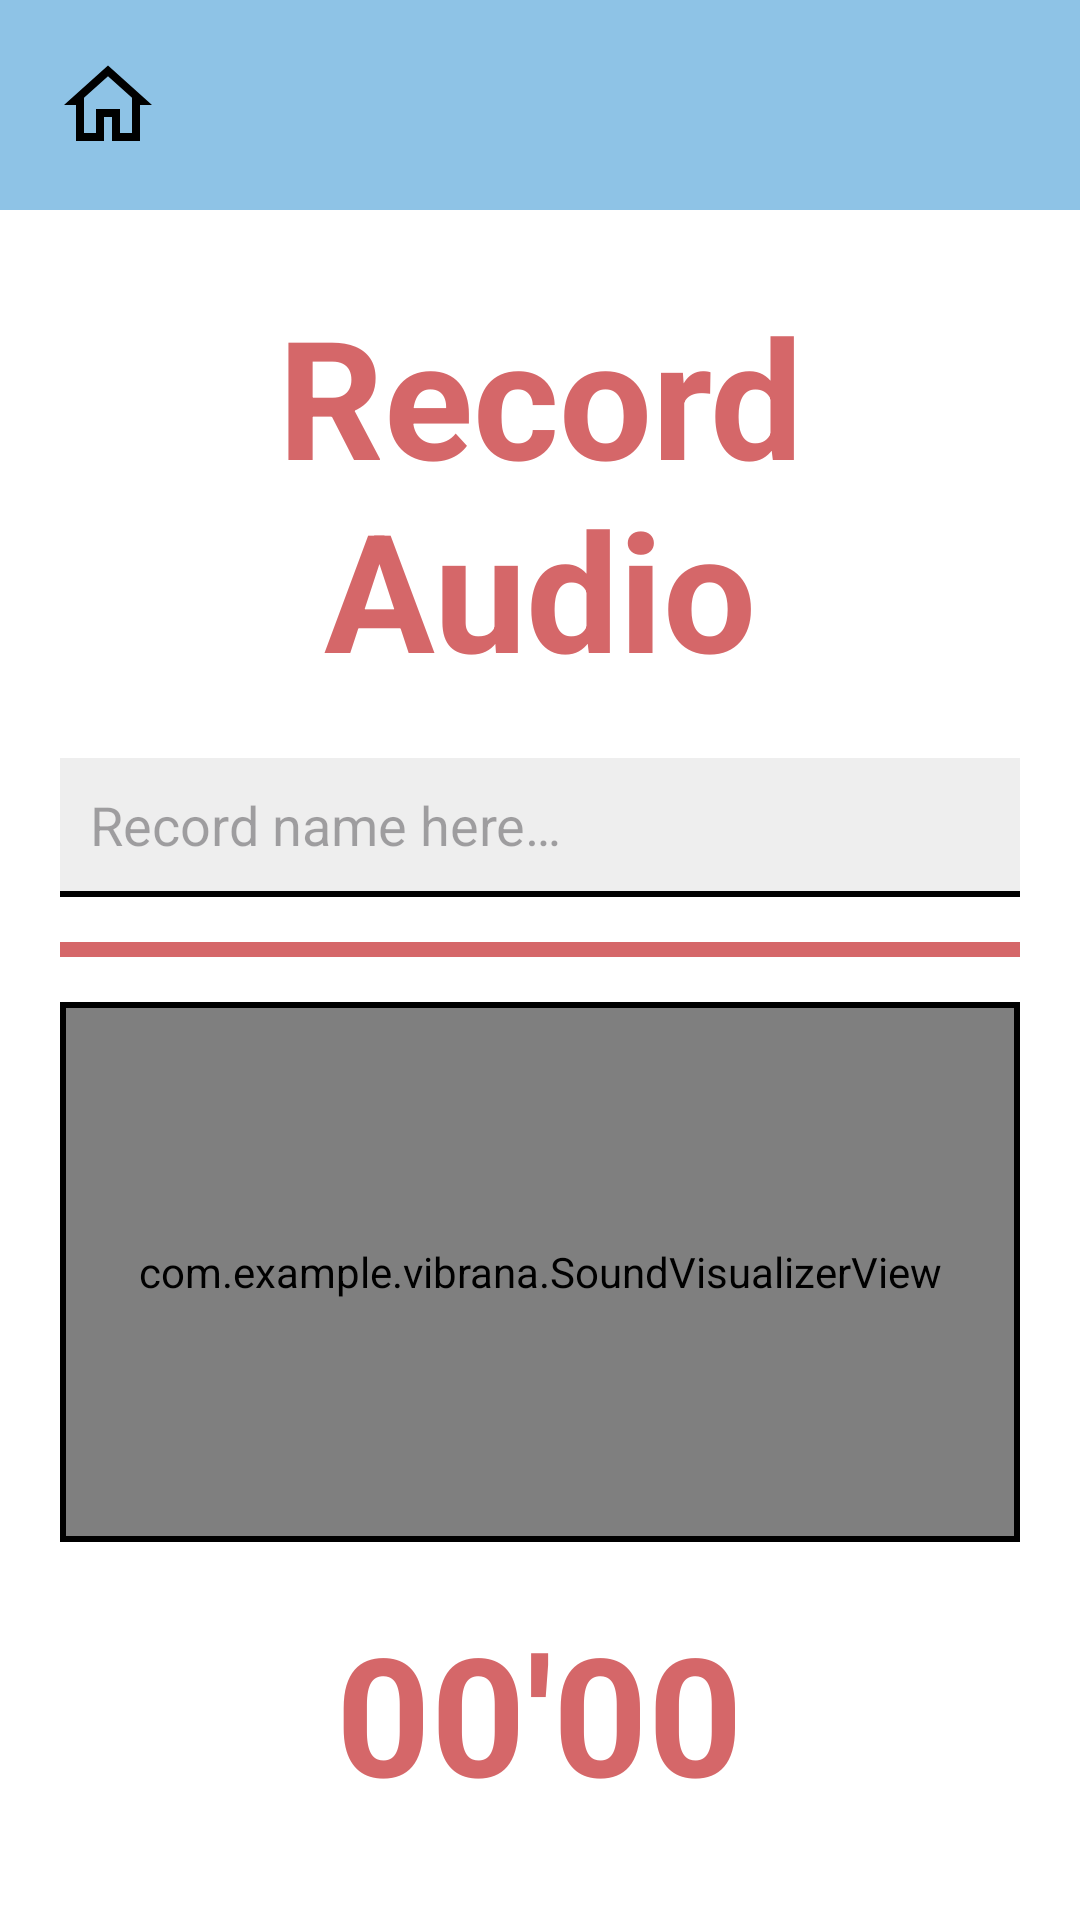

Where to tap for icons on this 1080w x 1920h app screen, as point (x, y):
Home: point (108, 103)
